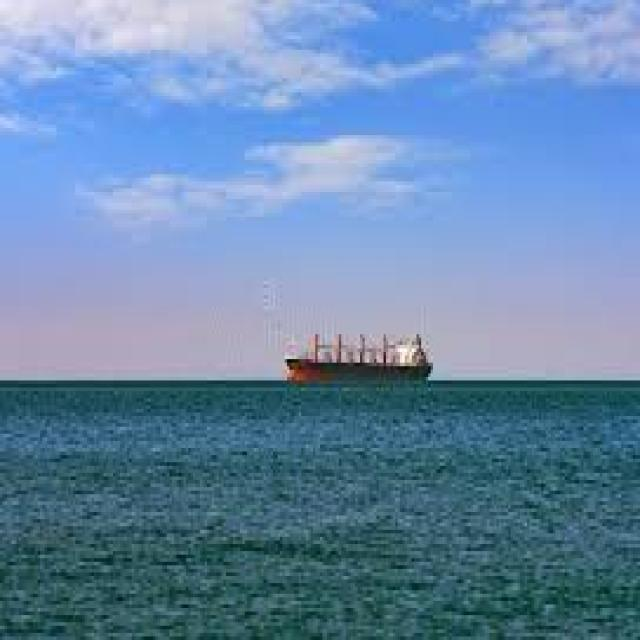cargoship: (283, 314, 434, 385)
